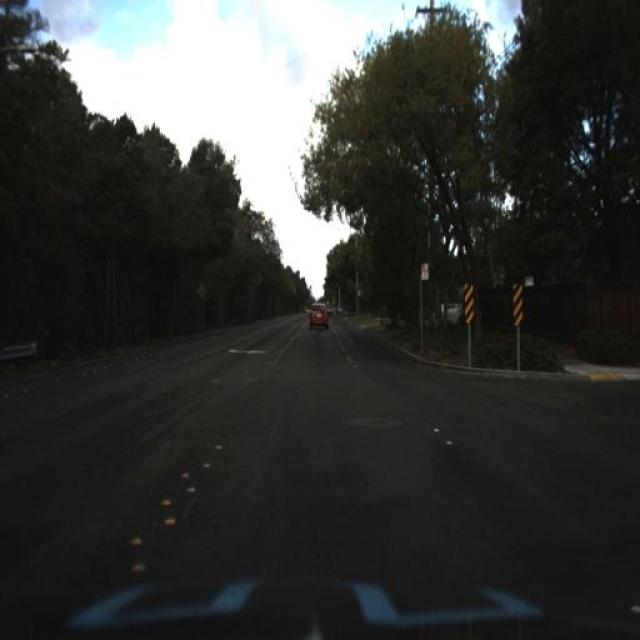car: (306, 290, 332, 335)
